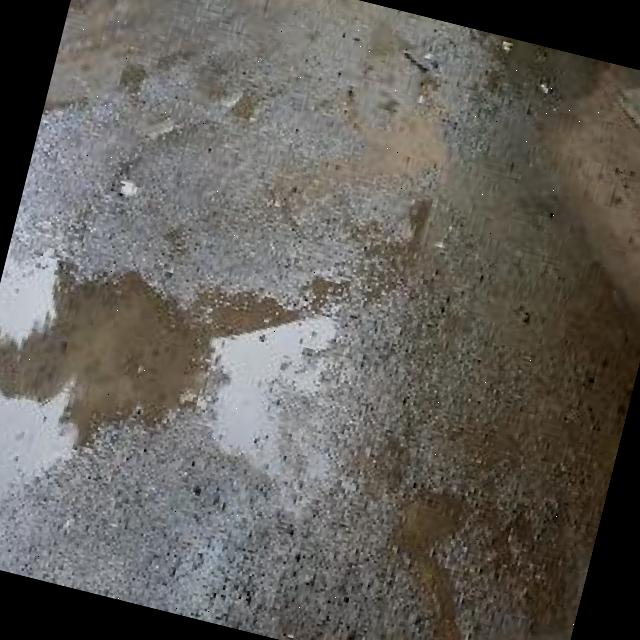stagnation: (0, 243, 356, 509)
